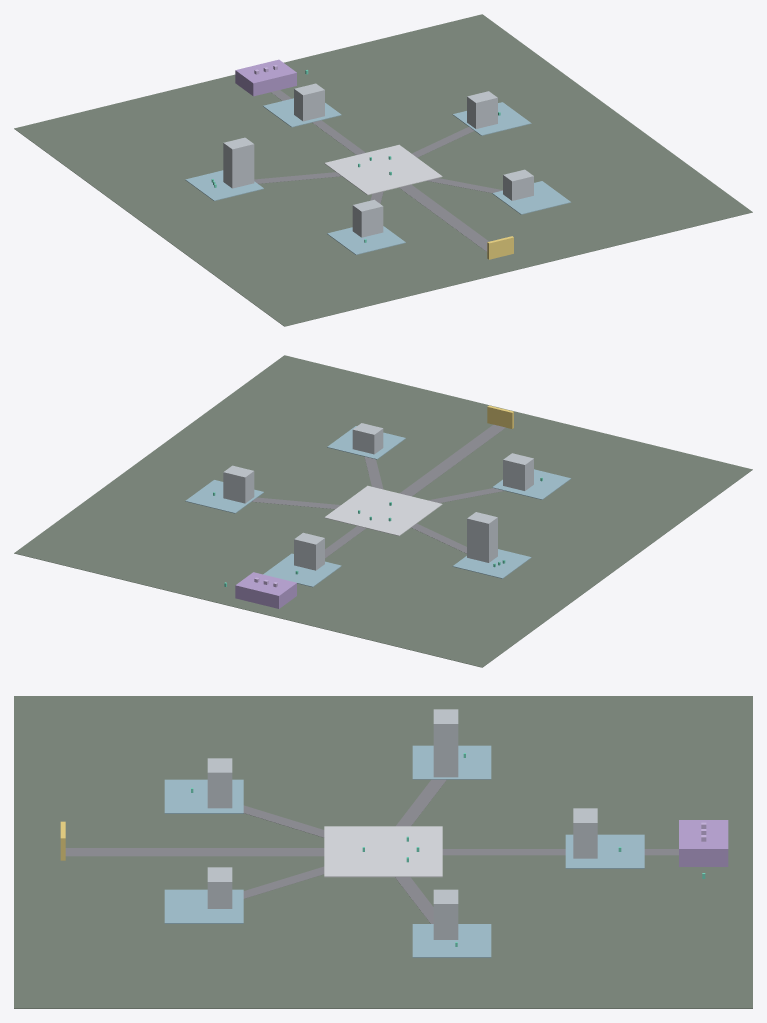
The model's file is biota-blockchain.glb.
3 views of the same model, one above another, from view 1: azimuth 30°, elevation 25°; view 2: azimuth 150°, elevation 25°; view 3: azimuth 270°, elevation 25° (orthographic). The views are drawn at different scales.
Parts seen in each view (by area): view 1: ground:biota-blockchain, plaza:biota-blockchain/floor, council:biota-blockchain/chamber, zone:biota-blockchain/dao-governance-hall/hall, e:biota-blockchain/personalized-therapy-lab/pad, e:biota-blockchain/biopharma-agi-agents-hub/pad, zone:biota-blockchain/dao-governance-hall/pad, road:biota-blockchain/gate, :biota-blockchain/personalized-therapy-lab/hall, e:biota-blockchain/multi-blockchain-ledger/hall, :biota-blockchain/healthcare-data-exchange/hall, e:biota-blockchain/healthcare-data-exchange/pad (+3 smaller); view 2: ground:biota-blockchain, plaza:biota-blockchain/floor, council:biota-blockchain/chamber, zone:biota-blockchain/dao-governance-hall/hall, road:biota-blockchain/gate, ne:biota-blockchain/multi-blockchain-ledger/pad, zone:biota-blockchain/dao-governance-hall/pad, e:biota-blockchain/healthcare-data-exchange/pad, :biota-blockchain/healthcare-data-exchange/hall, e:biota-blockchain/multi-blockchain-ledger/hall, :biota-blockchain/personalized-therapy-lab/hall, e:biota-blockchain/personalized-therapy-lab/pad (+2 smaller); view 3: ground:biota-blockchain, plaza:biota-blockchain/floor, road:biota-blockchain/gate, e:biota-blockchain/healthcare-data-exchange/pad, e:biota-blockchain/biopharma-agi-agents-hub/pad, council:biota-blockchain/chamber, ne:biota-blockchain/multi-blockchain-ledger/pad, e:biota-blockchain/personalized-therapy-lab/pad, zone:biota-blockchain/dao-governance-hall/pad, zone:biota-blockchain/dao-governance-hall/hall, :biota-blockchain/personalized-therapy-lab/hall, :biota-blockchain/healthcare-data-exchange/hall (+7 smaller).
Part boxes in pixels (x1,y1,x2,y2): ground:biota-blockchain: (14, 14, 752, 326); plaza:biota-blockchain/floor: (324, 144, 442, 195); council:biota-blockchain/chamber: (235, 59, 296, 96); zone:biota-blockchain/dao-governance-hall/hall: (223, 137, 254, 188); e:biota-blockchain/personalized-therapy-lab/pad: (327, 226, 405, 254); e:biota-blockchain/biopharma-agi-agents-hub/pad: (492, 181, 571, 214); zone:biota-blockchain/dao-governance-hall/pad: (185, 170, 263, 201); road:biota-blockchain/gate: (399, 184, 488, 251); :biota-blockchain/personalized-therapy-lab/hall: (352, 199, 383, 237); e:biota-blockchain/multi-blockchain-ledger/hall: (294, 83, 324, 121); :biota-blockchain/healthcare-data-exchange/hall: (467, 91, 497, 128); e:biota-blockchain/healthcare-data-exchange/pad: (452, 102, 531, 135); ground:biota-blockchain: (14, 355, 752, 667); plaza:biota-blockchain/floor: (324, 485, 442, 536); council:biota-blockchain/chamber: (235, 572, 296, 608); zone:biota-blockchain/dao-governance-hall/hall: (467, 512, 497, 562); road:biota-blockchain/gate: (399, 424, 505, 496); ne:biota-blockchain/multi-blockchain-ledger/pad: (263, 553, 341, 587); zone:biota-blockchain/dao-governance-hall/pad: (452, 549, 531, 578); e:biota-blockchain/healthcare-data-exchange/pad: (185, 480, 263, 513); :biota-blockchain/healthcare-data-exchange/hall: (223, 465, 254, 503); e:biota-blockchain/multi-blockchain-ledger/hall: (294, 532, 324, 570); :biota-blockchain/personalized-therapy-lab/hall: (503, 453, 533, 490); e:biota-blockchain/personalized-therapy-lab/pad: (492, 469, 571, 499); ground:biota-blockchain: (14, 696, 752, 1008); plaza:biota-blockchain/floor: (324, 826, 442, 877); road:biota-blockchain/gate: (65, 848, 324, 856); e:biota-blockchain/healthcare-data-exchange/pad: (412, 924, 491, 957); e:biota-blockchain/biopharma-agi-agents-hub/pad: (164, 889, 243, 923); council:biota-blockchain/chamber: (679, 820, 728, 866); ne:biota-blockchain/multi-blockchain-ledger/pad: (565, 834, 644, 868); e:biota-blockchain/personalized-therapy-lab/pad: (164, 779, 243, 813); zone:biota-blockchain/dao-governance-hall/pad: (412, 745, 491, 779); zone:biota-blockchain/dao-governance-hall/hall: (433, 709, 458, 777); :biota-blockchain/personalized-therapy-lab/hall: (207, 758, 232, 808); :biota-blockchain/healthcare-data-exchange/hall: (433, 889, 458, 939).
Bounding box in the file's own units: 300 × 24.6 × 300.
